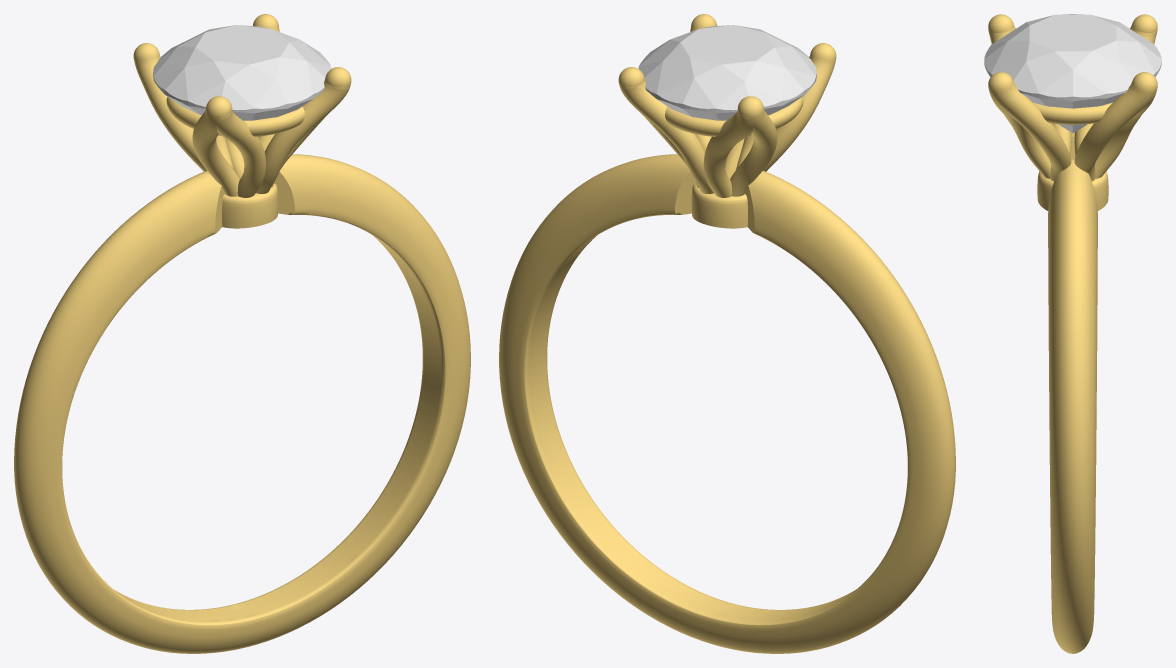
The model's file is KevinYGeng_blender.glb.
The picture shows the model from 3 angles, left to right: view 1: azimuth 30°, elevation 25°; view 2: azimuth 150°, elevation 25°; view 3: azimuth 270°, elevation 25°; orthographic projection.
Visible parts, largest first — view 1: Kevin YG for 3d model, Kevin dia for 3d model; view 2: Kevin YG for 3d model, Kevin dia for 3d model; view 3: Kevin YG for 3d model, Kevin dia for 3d model.
Boxes of the visible parts, x1,y1,x2,y2 form: Kevin YG for 3d model: [14, 14, 470, 653]; Kevin dia for 3d model: [153, 25, 331, 120]; Kevin YG for 3d model: [499, 14, 955, 653]; Kevin dia for 3d model: [638, 25, 816, 120]; Kevin YG for 3d model: [988, 14, 1157, 653]; Kevin dia for 3d model: [984, 14, 1161, 132].
Size of the model in its own units: 23.82 by 30.26 by 8.15.
